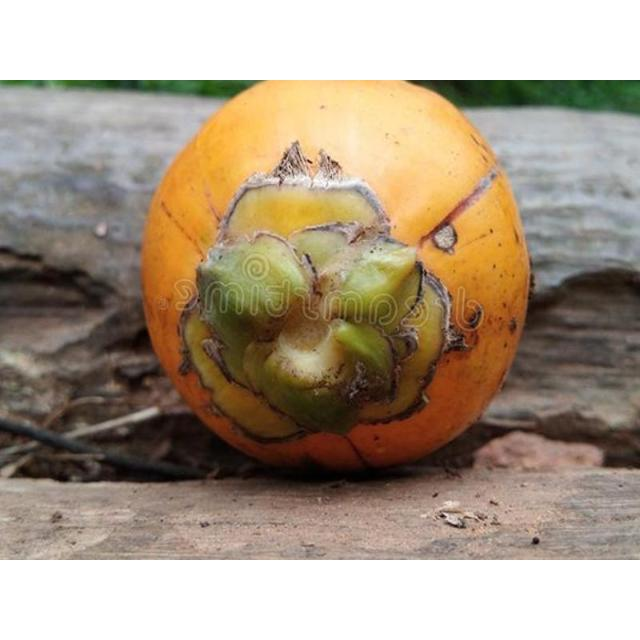good: (142, 80, 531, 474)
